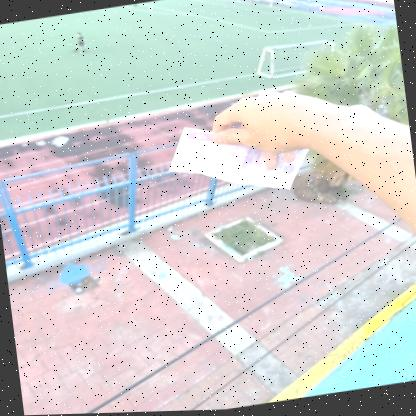one_hundred-back-vef: (162, 109, 314, 209)
